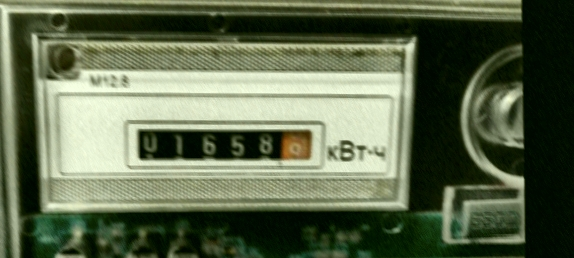0: (141, 131, 158, 152)
1: (171, 132, 185, 156)
5: (229, 133, 245, 157)
6: (200, 132, 218, 156)
8: (257, 132, 274, 155)
9: (286, 140, 302, 161)
screen: (121, 115, 328, 176)
